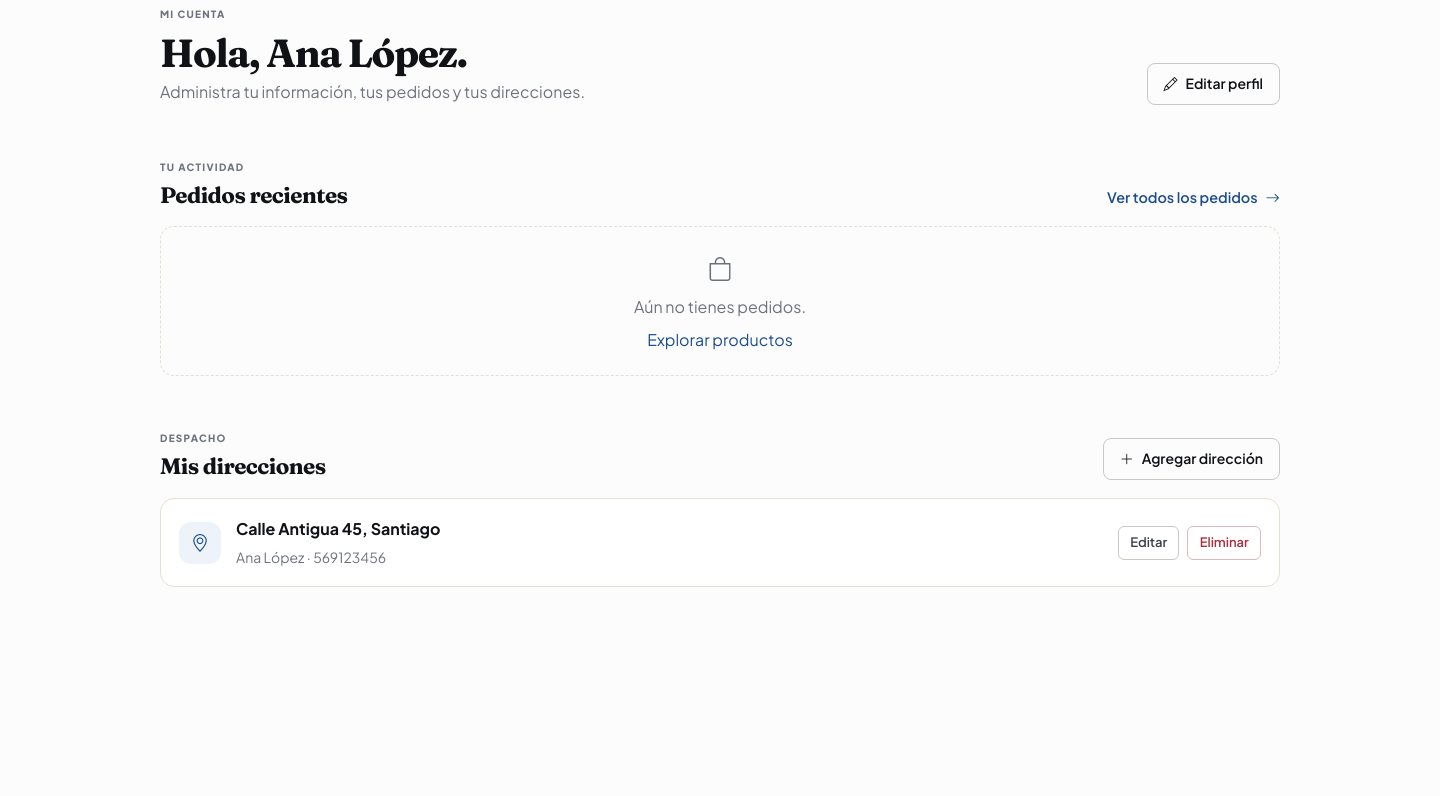
Test case: CustomerProfile › permite editar y eliminar una dirección guardada
Check: the text "Calle Antigua 45, Santiago" is shown, box [236, 517, 440, 542]
Click the button "Editar": click(1149, 543) [1118, 526, 1180, 560]
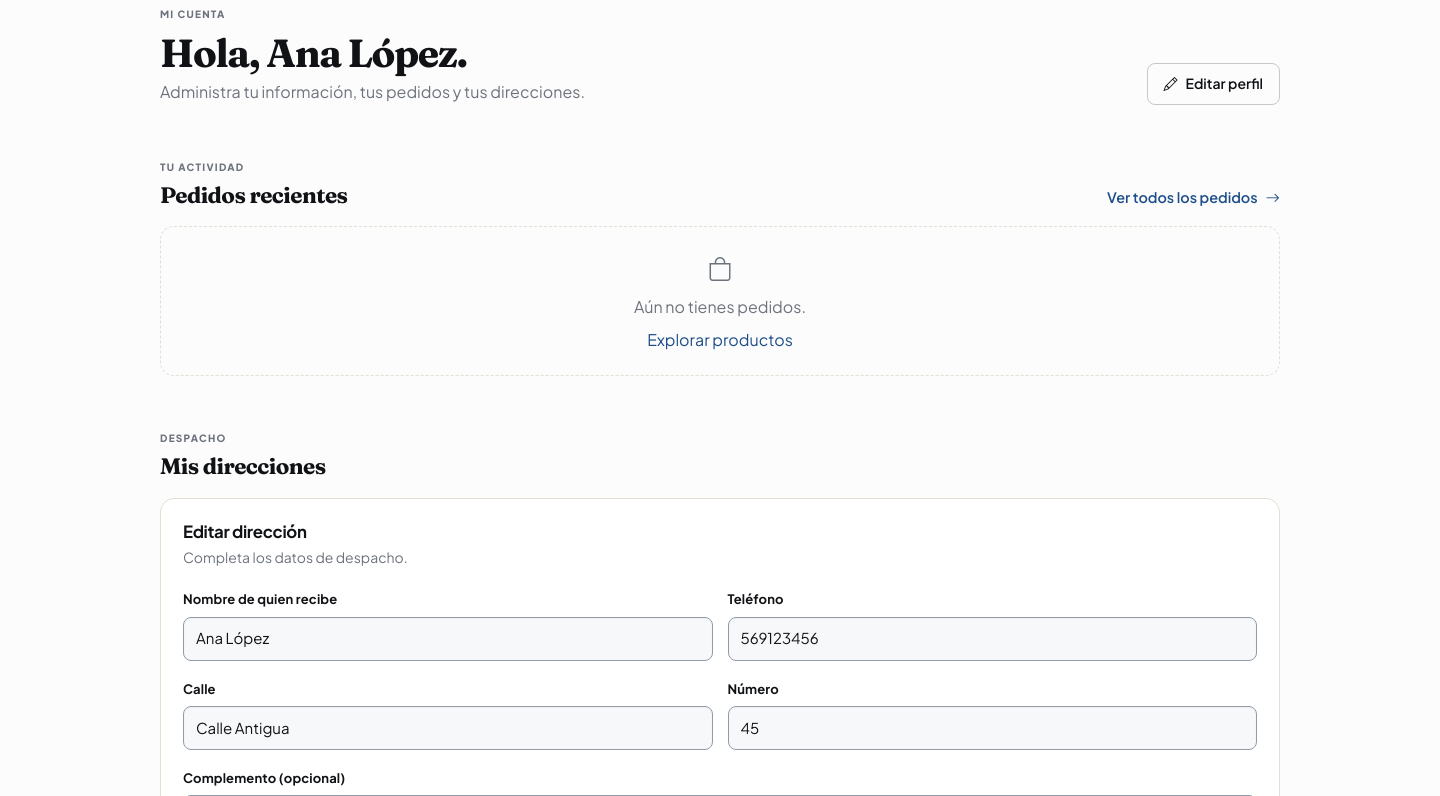
Replace the text in the field labelled "Calle" with "Calle Nueva": (448, 728) [183, 706, 712, 750]
(page scrolled)
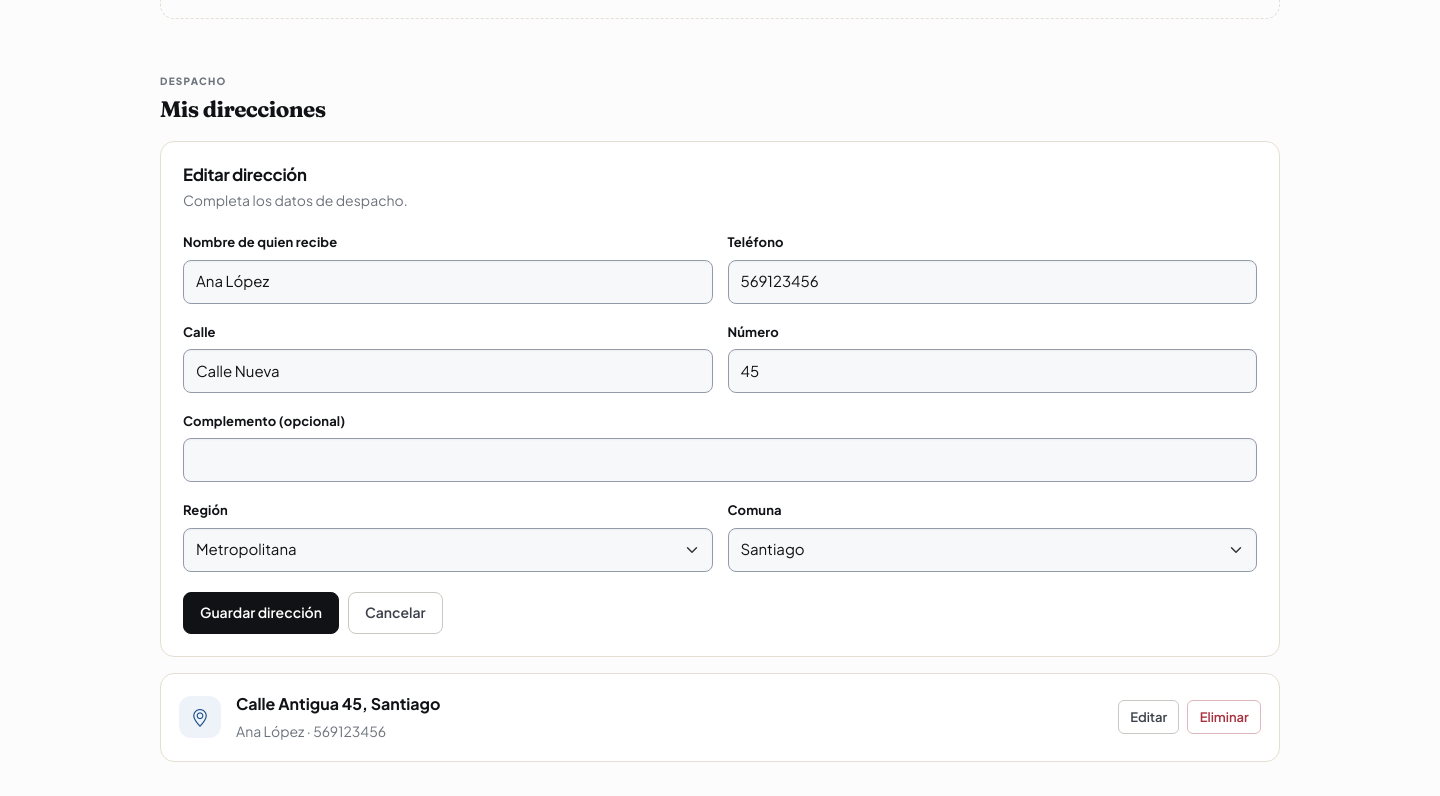
Click the button "Guardar dirección": click(261, 613) [183, 592, 339, 634]
(page scrolled)
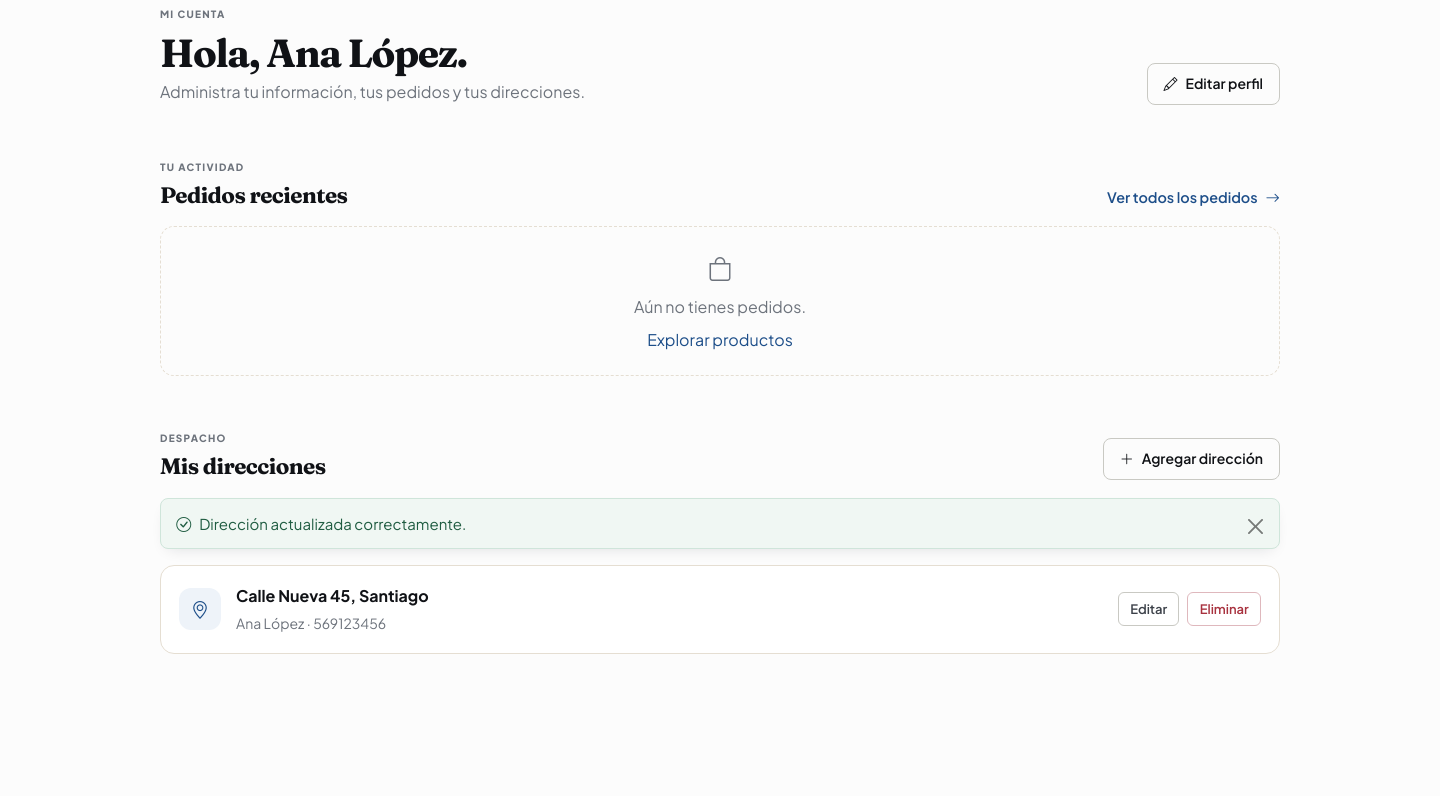
Click the button "Eliminar": click(1224, 609) [1188, 592, 1261, 626]
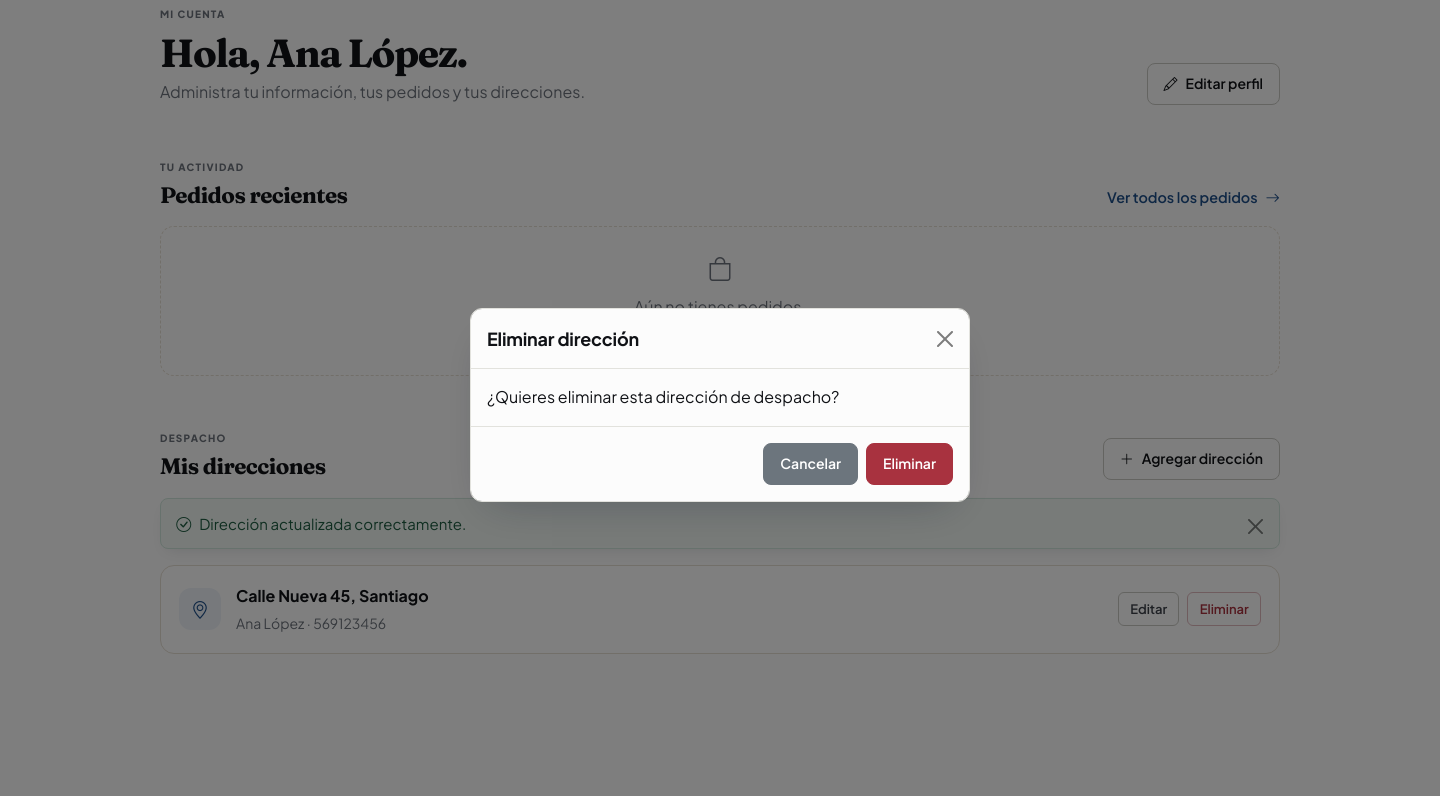
Click the button "Eliminar": click(910, 464) [866, 443, 953, 485]
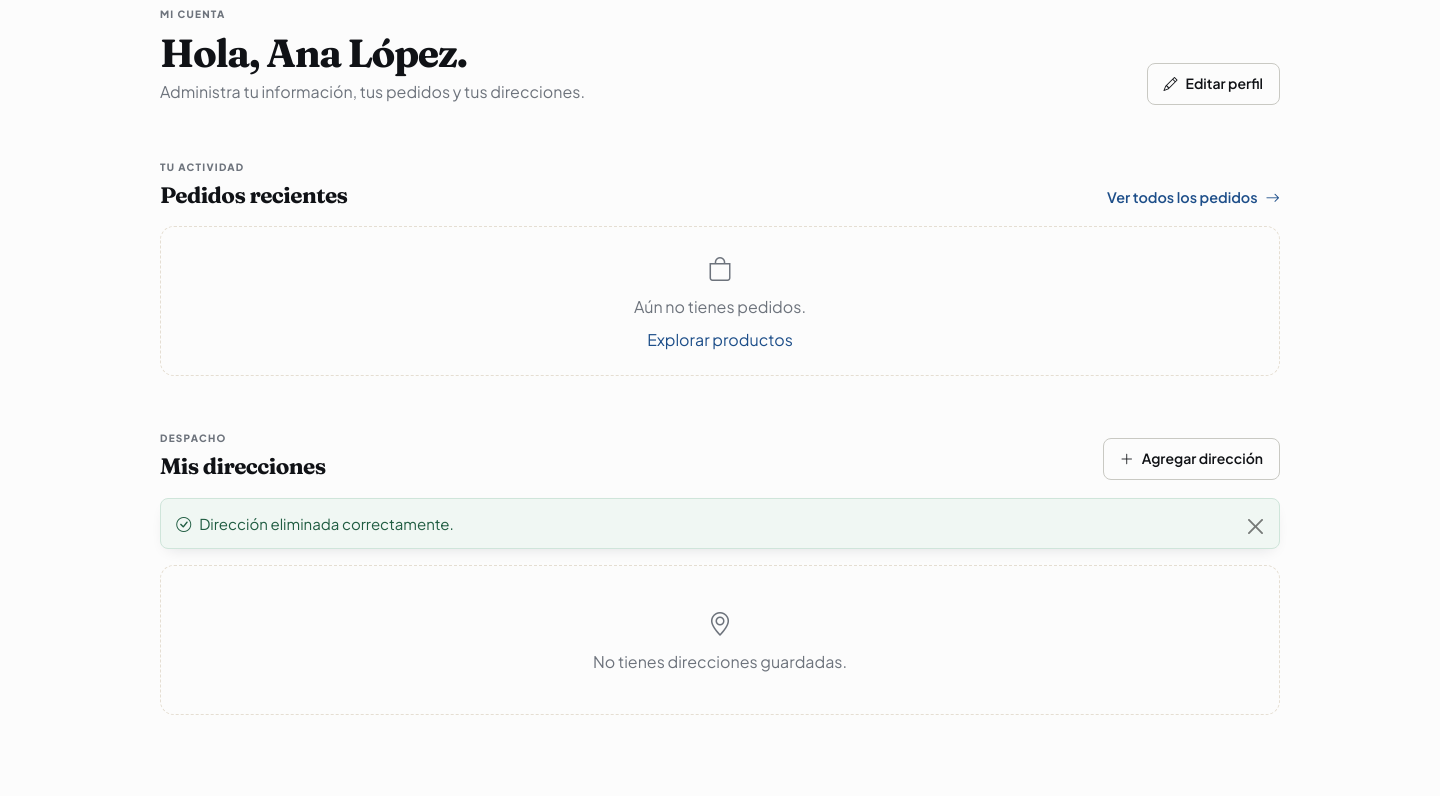
Check: the text "Dirección eliminada correctamente." is shown, box [199, 512, 454, 535]
